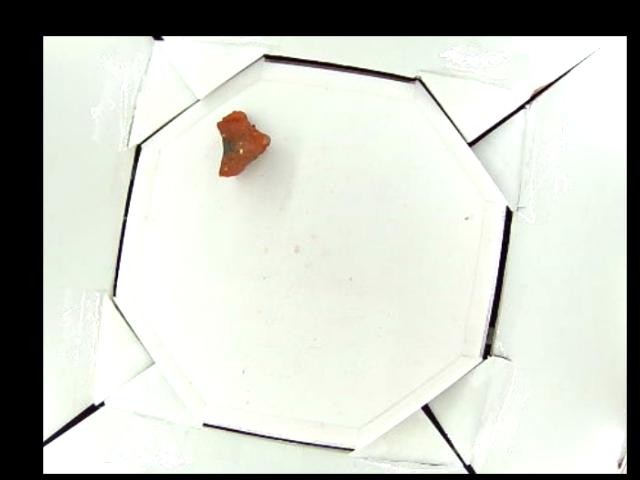Brisk: (217, 110, 271, 177)
